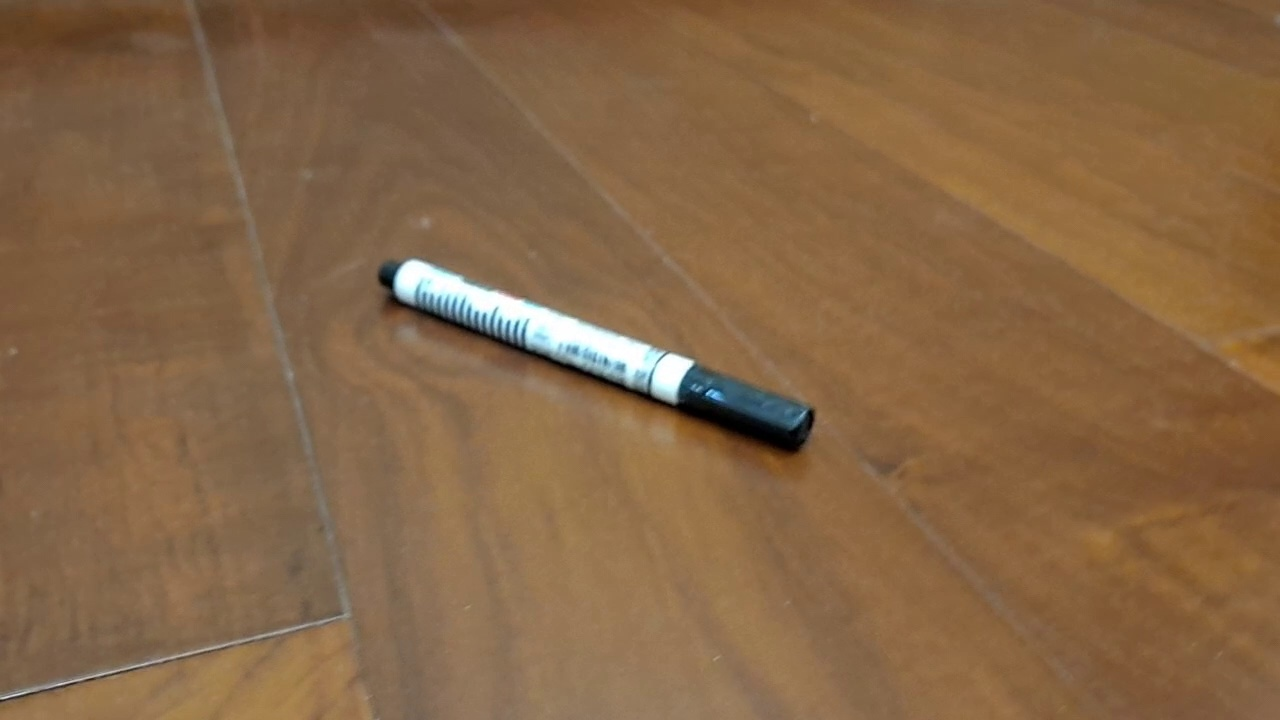pen: (377, 256, 816, 453)
